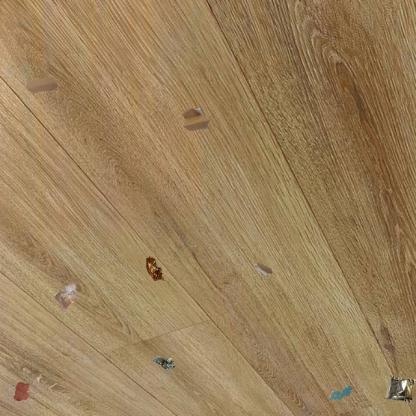dirty: (52, 278, 80, 313), (384, 374, 416, 402), (179, 106, 212, 133), (23, 75, 60, 96), (144, 254, 167, 284), (152, 355, 178, 372), (252, 260, 274, 278)
liquid: (329, 384, 352, 402), (12, 381, 31, 402)
